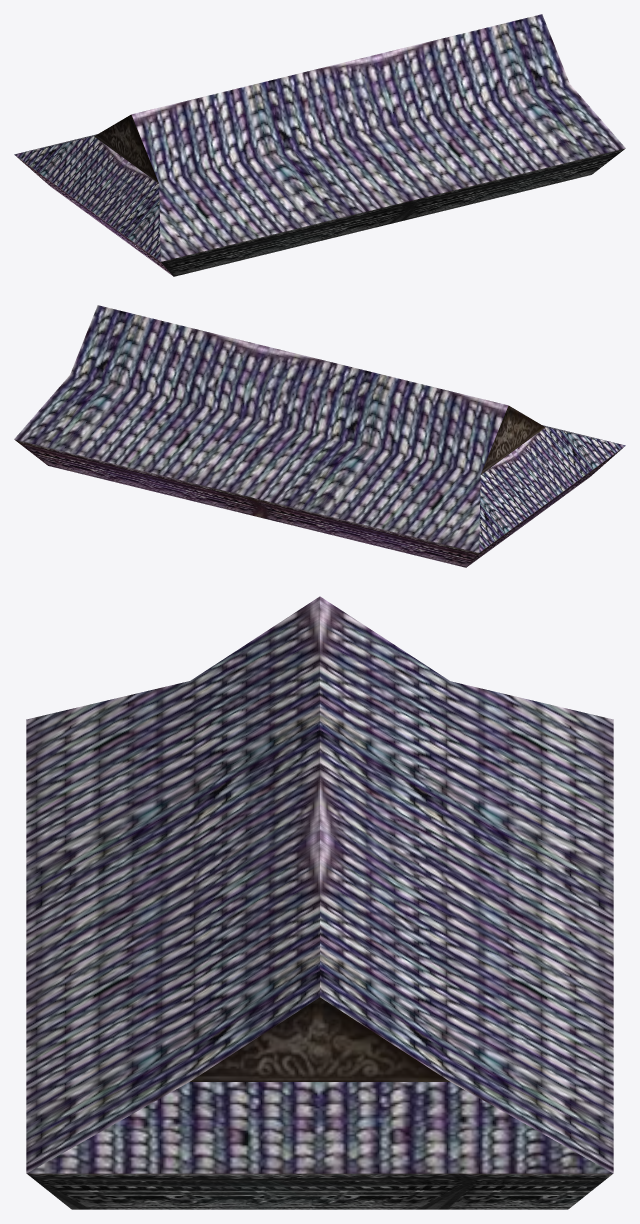
3 renders of one model, top to bottom at view 1: azimuth 30°, elevation 25°; view 2: azimuth 150°, elevation 25°; view 3: azimuth 270°, elevation 25°, orthographic. The views are drawn at different scales.
Visible parts, largest first — view 1: Box189; view 2: Box189; view 3: Box189.
Part boxes in pixels (<box>): Box189: <box>14,14,625,276</box>; Box189: <box>14,305,625,567</box>; Box189: <box>26,596,613,1209</box>.
Bounding box in the file's own units: 409 × 94.38 × 224.
